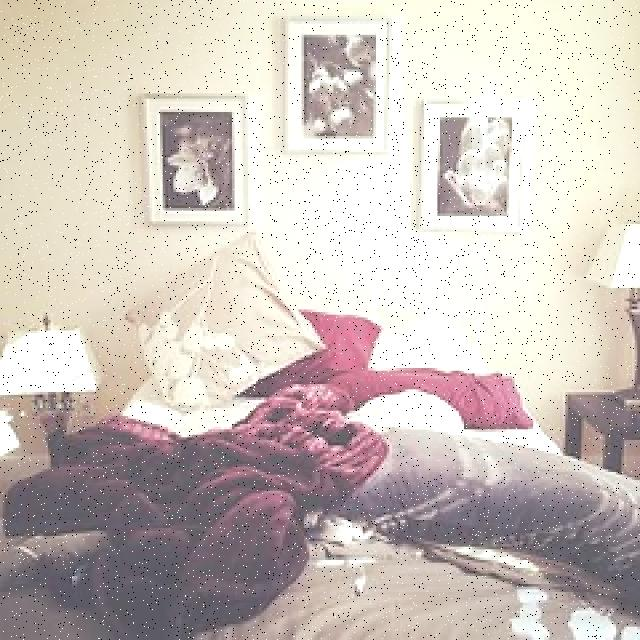bed: (26, 281, 635, 626)
